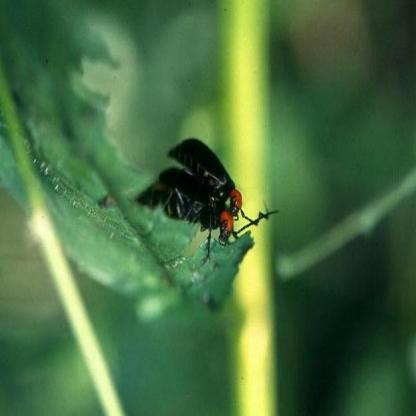beetle: (138, 162, 250, 256), (170, 124, 260, 217)
